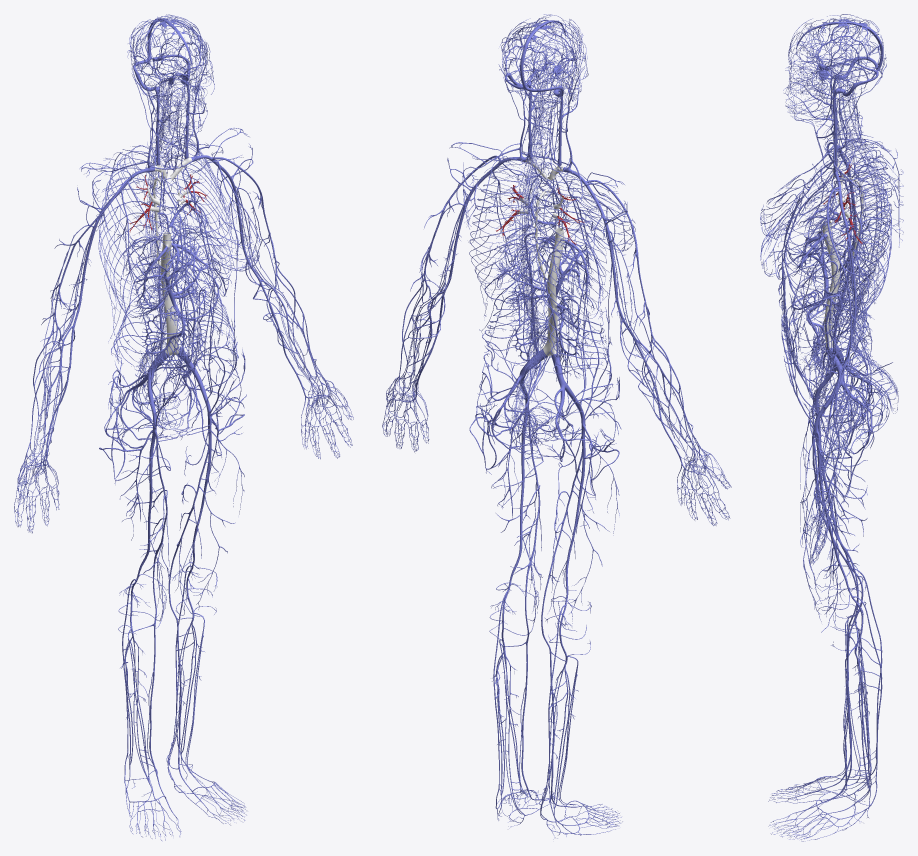
The model's file is female-2024-veins-medium.glb.
3 renders of one model, left to right at view 1: azimuth 30°, elevation 25°; view 2: azimuth 150°, elevation 25°; view 3: azimuth 270°, elevation 25°, orthographic. The views are drawn at different scales.
Parts seen in each view (by area): view 1: Great Saphenous Vein (×2), Basilic Vein (×2), Inferior Vena Cava, Cephalic Vein; view 2: Great Saphenous Vein (×2), Basilic Vein (×2), Cephalic Vein (×2), Inferior Vena Cava; view 3: Great Saphenous Vein (×2), Basilic Vein (×2), Cephalic Vein, Inferior Vena Cava, Medial Mammary Branches of Internal Thoracic Vein (×2), Femoral Vein (×2), Posterior Tibial Veins (×2), Small Saphenous Vein (×2), Middle Meningeal Veins, Left Gastroomental Vein, Superior Cerebral Veins, Superior Sagittal Sinus (+16 smaller).
Part boxes in pixels (bbox=[...]): Great Saphenous Vein (×2): bbox=[122, 418, 244, 775]; Basilic Vein (×2): bbox=[34, 190, 307, 456]; Inferior Vena Cava: bbox=[160, 232, 179, 355]; Cephalic Vein: bbox=[30, 178, 130, 453]; Great Saphenous Vein (×2): bbox=[492, 412, 619, 799]; Basilic Vein (×2): bbox=[402, 201, 683, 460]; Cephalic Vein (×2): bbox=[398, 155, 693, 461]; Inferior Vena Cava: bbox=[543, 228, 565, 356]; Great Saphenous Vein (×2): bbox=[800, 404, 867, 786]; Basilic Vein (×2): bbox=[828, 181, 874, 486]; Cephalic Vein: bbox=[826, 187, 871, 489]; Inferior Vena Cava: bbox=[822, 220, 840, 349]; Medial Mammary Branches of Internal Thoracic Vein (×2): bbox=[760, 179, 802, 279]; Femoral Vein (×2): bbox=[813, 393, 839, 560]; Posterior Tibial Veins (×2): bbox=[852, 617, 871, 804]; Small Saphenous Vein (×2): bbox=[853, 568, 882, 808]; Middle Meningeal Veins: bbox=[796, 26, 877, 88]; Left Gastroomental Vein: bbox=[789, 271, 840, 363]; Superior Cerebral Veins: bbox=[797, 24, 880, 77]; Superior Sagittal Sinus: bbox=[796, 21, 883, 66].
Bounding box in the file's own units: 29.17 × 65.48 × 10.71.
